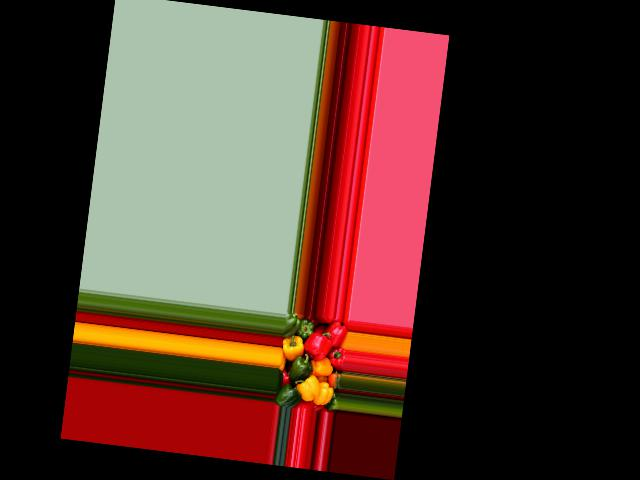bell_pepper: (327, 388, 340, 410)
